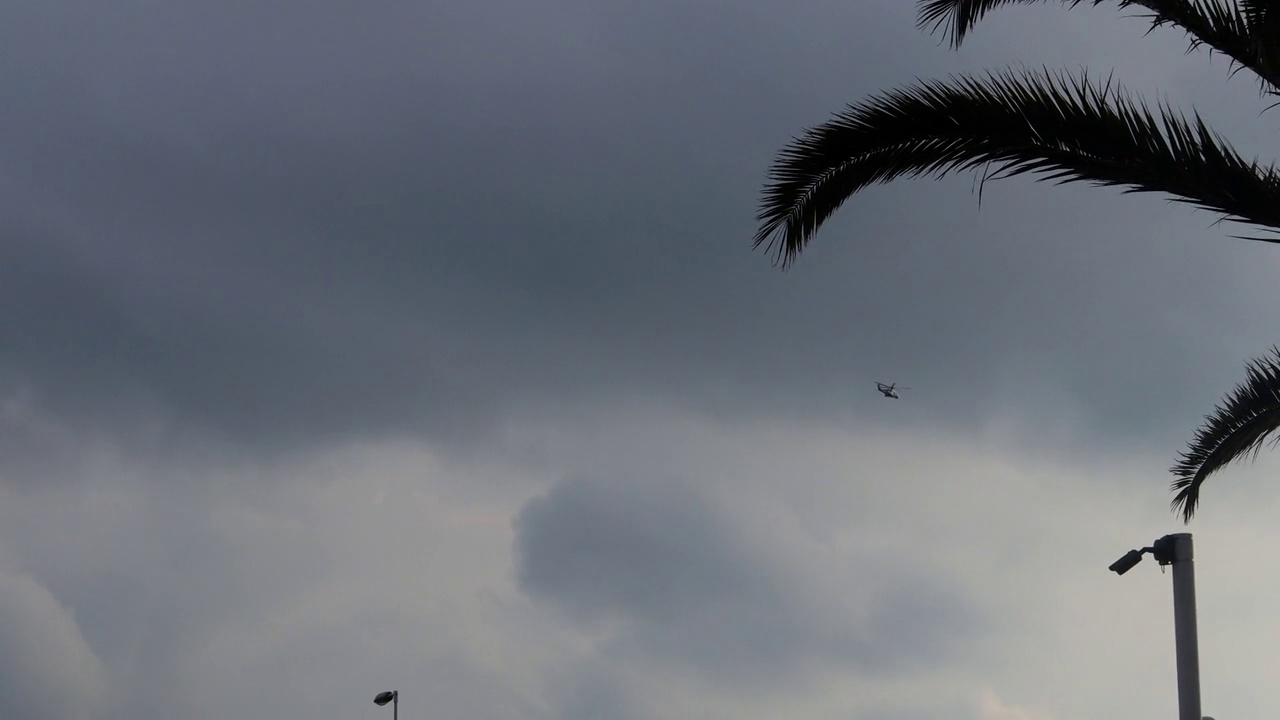heli: (875, 381, 911, 399)
